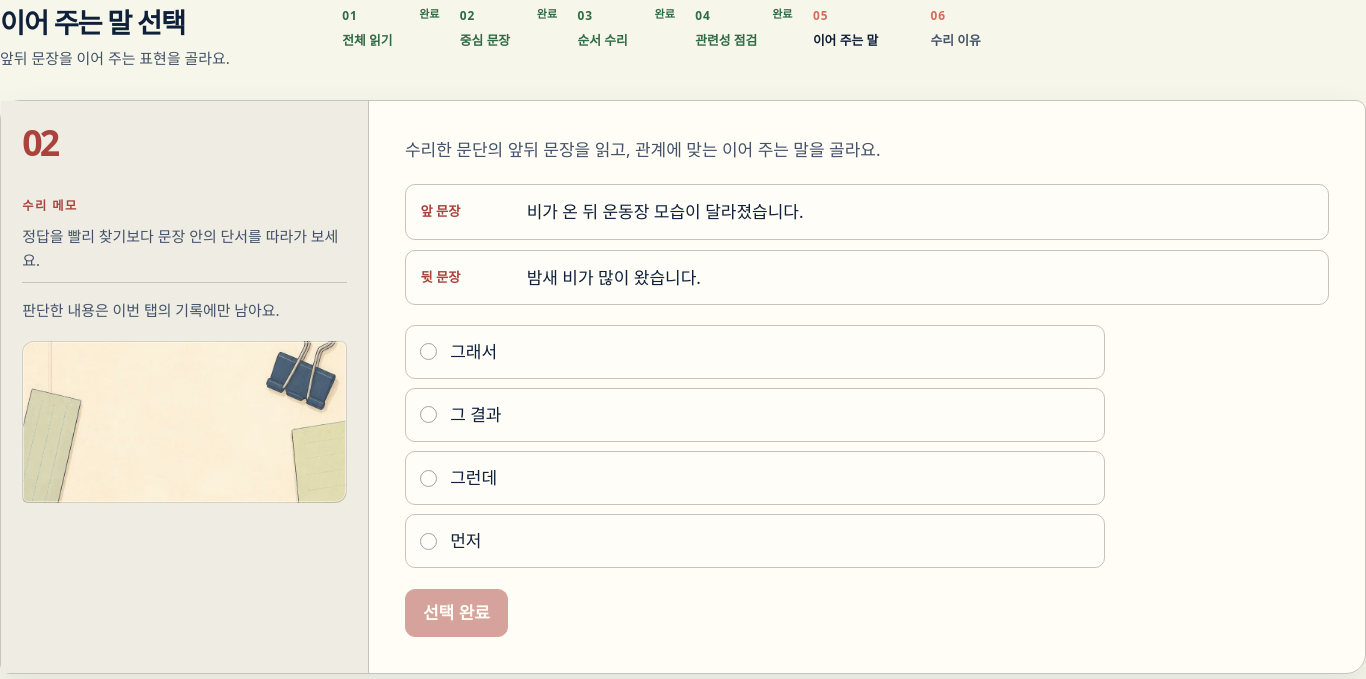
Test: 이어 주는 말 단계 › 관계가 맞지 않으면 두 문장을 다시 보여 준다
(page scrolled)
Step 1. Click the button "먼저" → (466, 541), box [405, 514, 1105, 568]
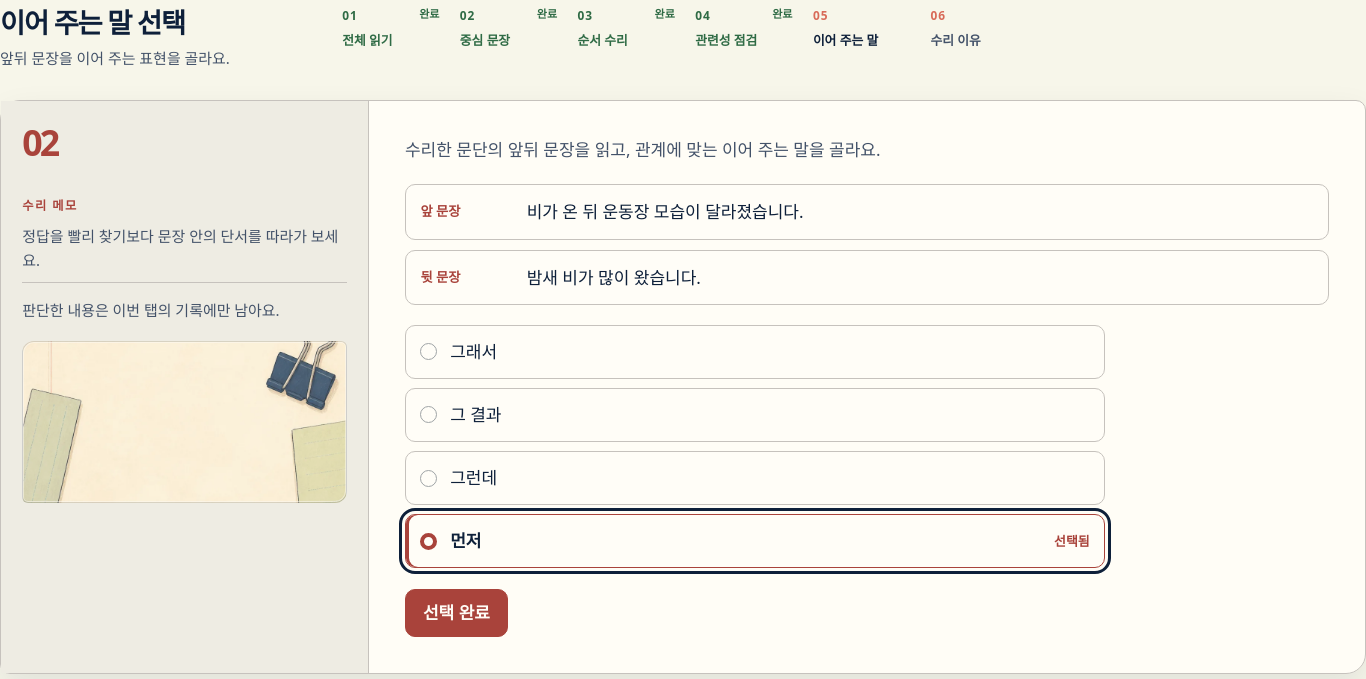
Step 2. Click the button "선택 완료" → (456, 613), box [405, 589, 508, 637]
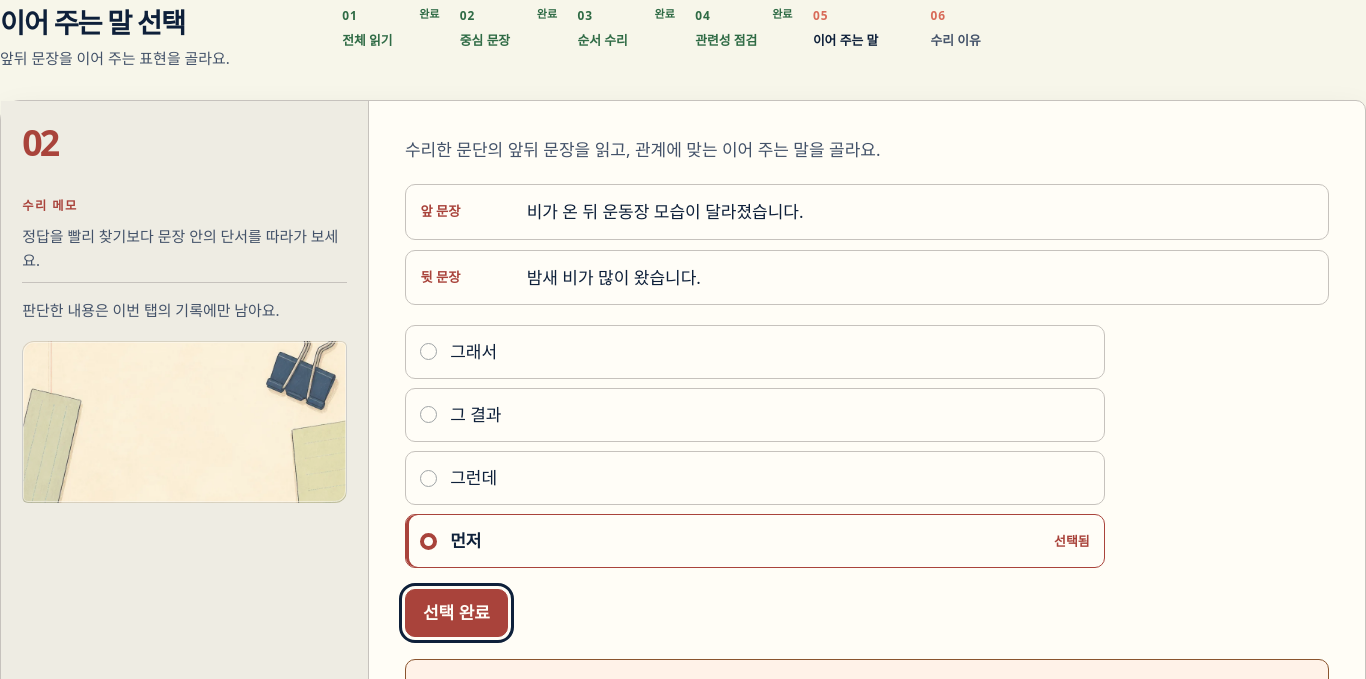
Check: the text "비가 온 뒤 운동장 모습이 달라졌습니다." is shown, box [527, 200, 804, 223]
Check: the text "밤새 비가 많이 왔습니다." is shown, box [527, 266, 701, 289]
Step 3. Click the button "그래서" → (474, 351), box [405, 325, 1105, 379]
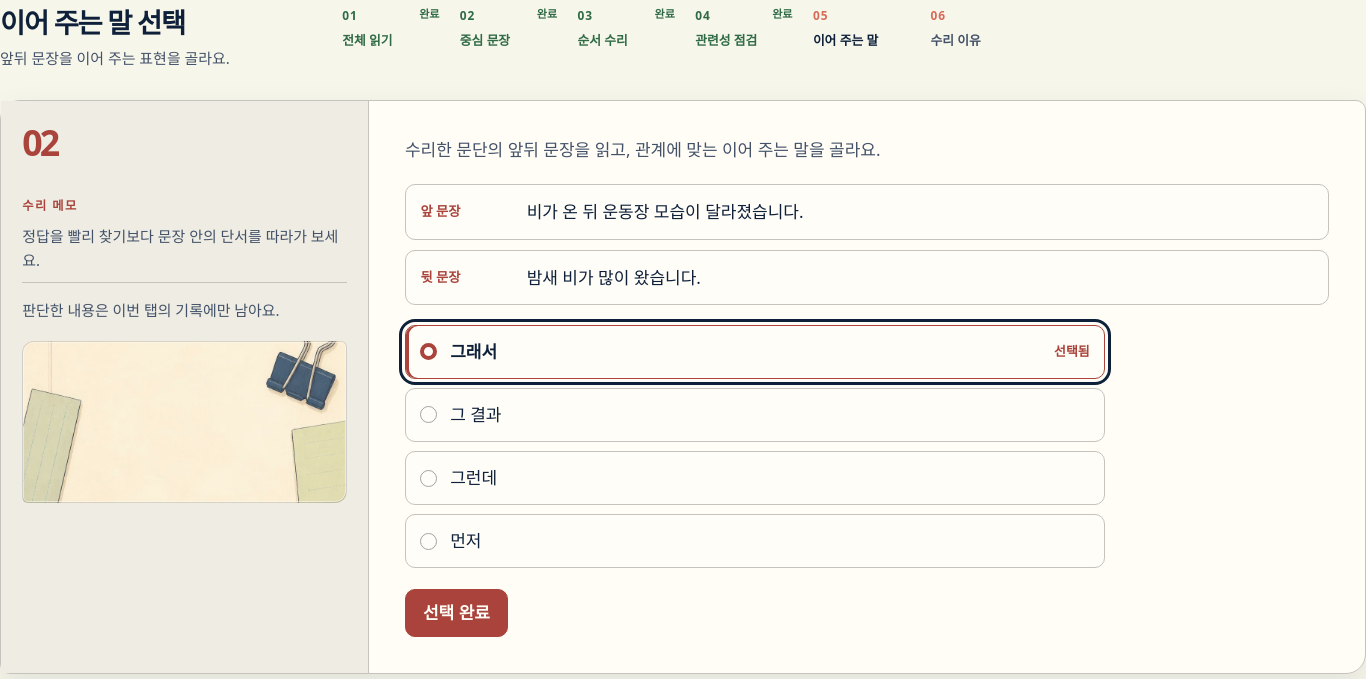
Step 4. Click the button "선택 완료" → (456, 613), box [405, 589, 508, 637]
(page scrolled)
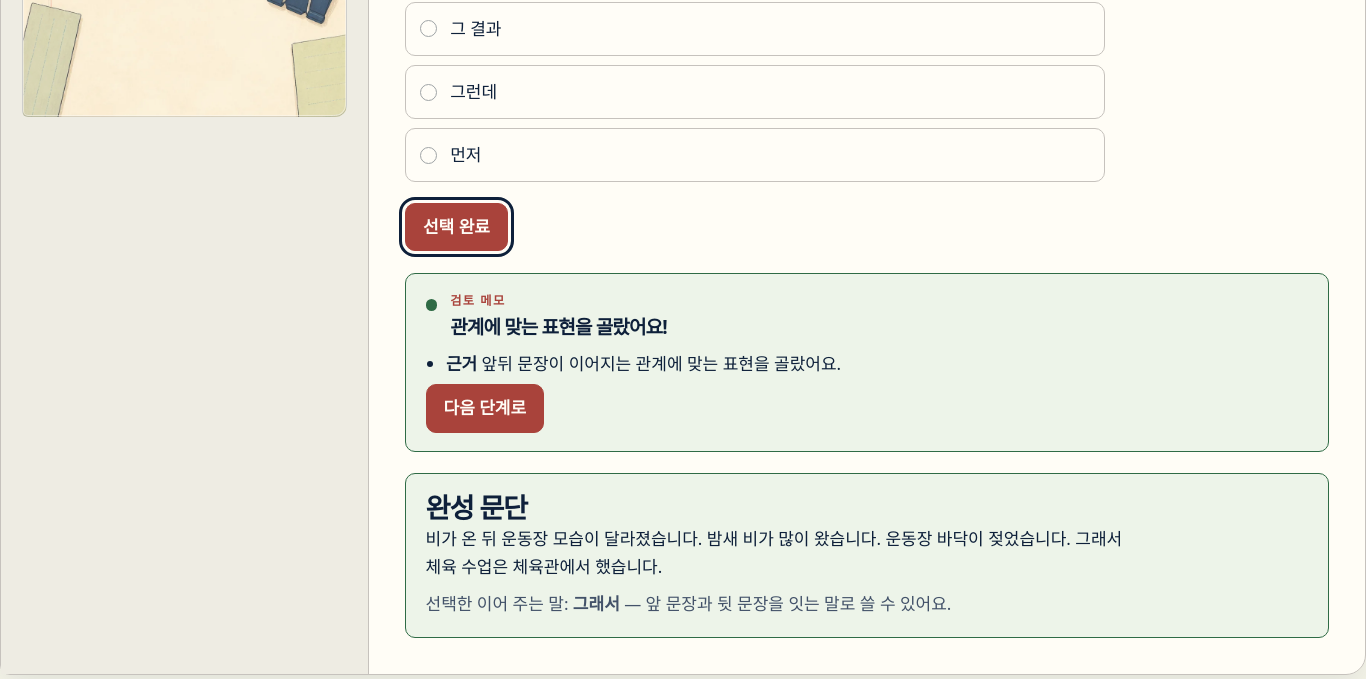
Check: the list item "앞뒤 문장이 이어지는 관계에 맞는 표현을 골랐어요." is shown, box [482, 352, 841, 375]
